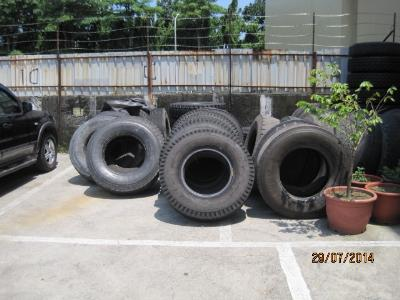tire: (158, 127, 258, 223), (257, 124, 355, 220), (86, 116, 165, 195)
